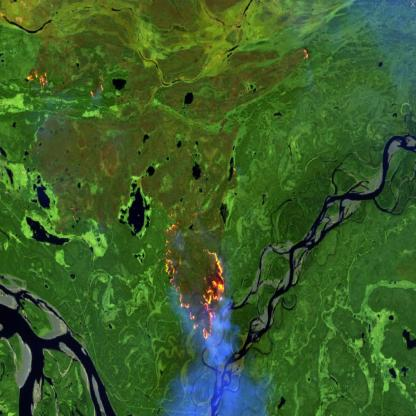fire: (157, 216, 232, 356), (23, 63, 110, 108), (293, 39, 316, 72)
